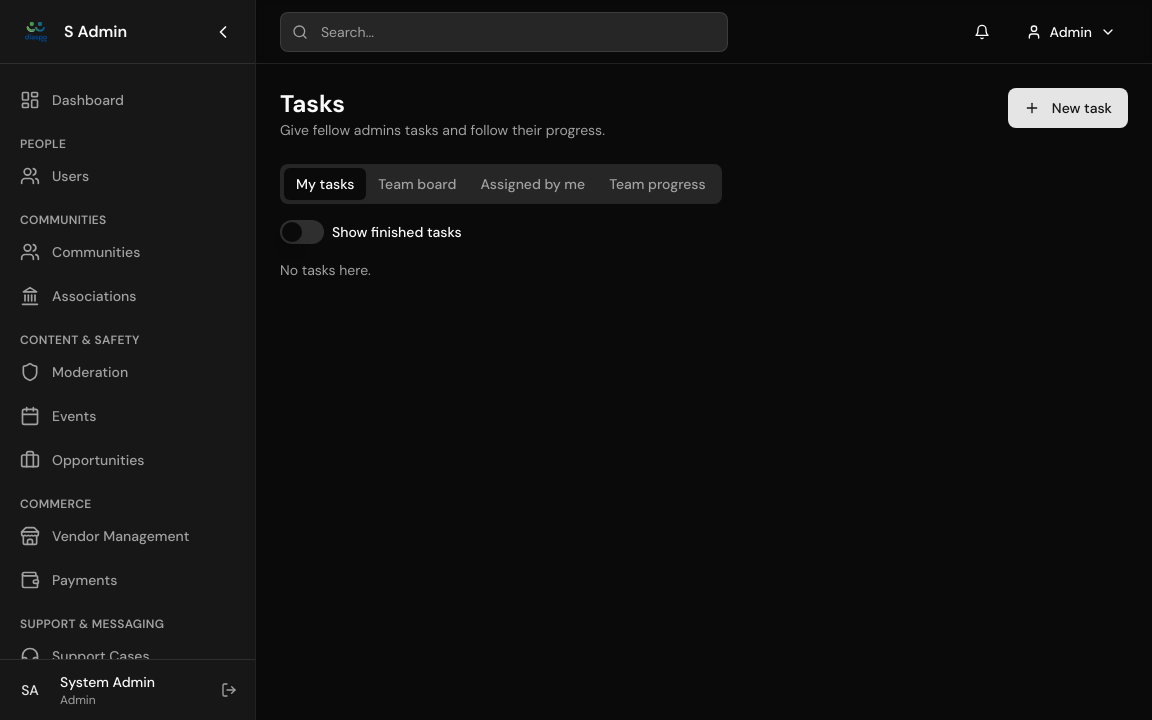
Scenario: Tasks — team board › groups tasks into status columns, flags overdue in text, and shows people by email only
Click the tab "Team board".
click(417, 184)  # box [366,168,468,200]
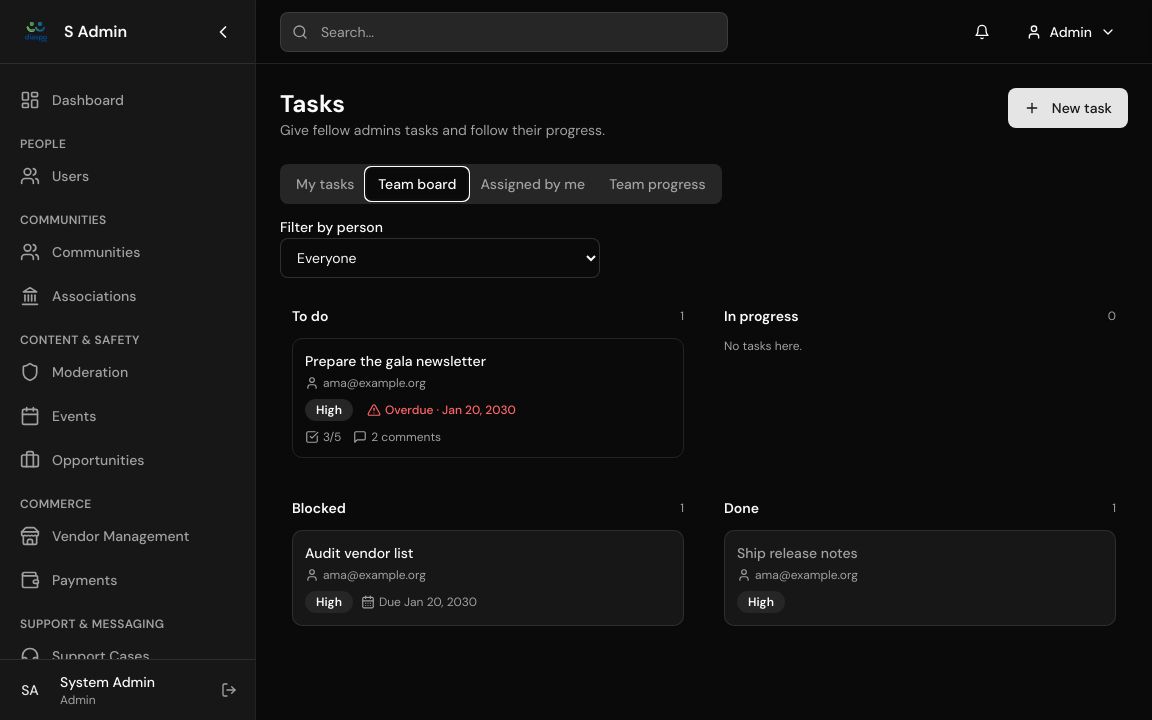
Check: the text "Prepare the gala newsletter" is shown, box [305,352,486,370]
Check: the text "Overdue · Jan 20, 2030" is shown, box [361,400,522,420]
Check: the text "3/5" is shown, box [305,429,341,445]
